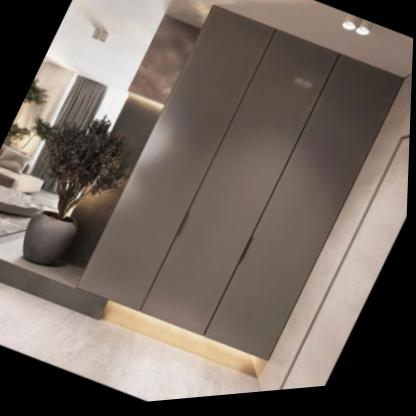Ceramic floor: (0, 282, 264, 404)
